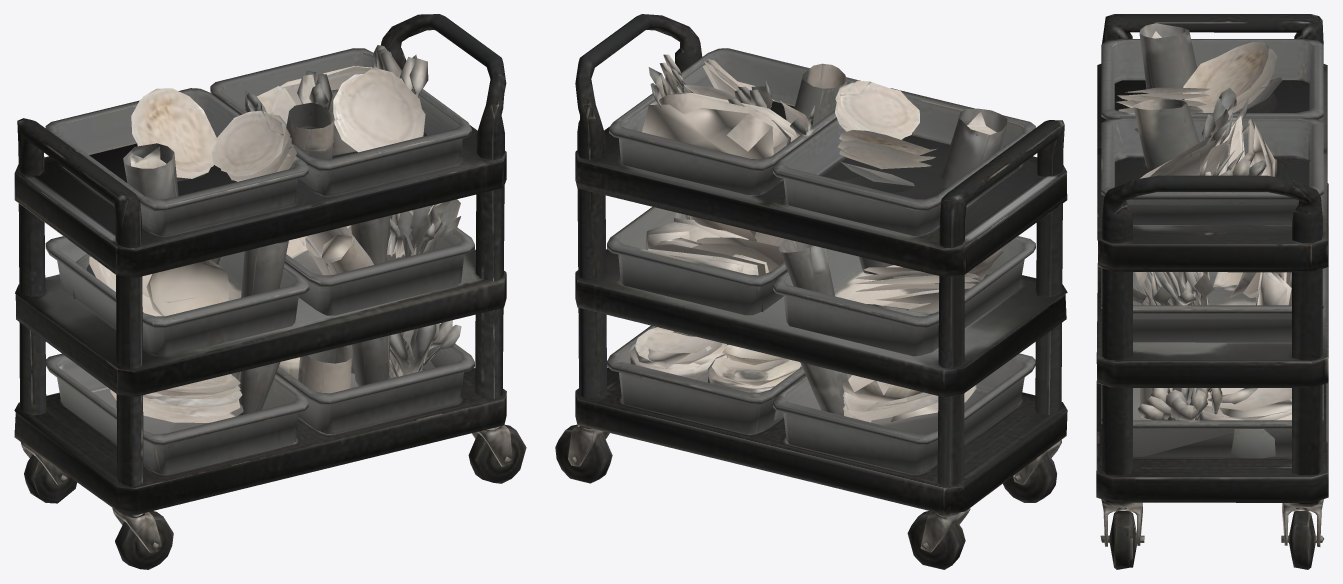
File: p7-bus-cart-t25.glb
The picture shows the model from 3 angles, left to right: view 1: azimuth 30°, elevation 25°; view 2: azimuth 150°, elevation 25°; view 3: azimuth 270°, elevation 25°; orthographic projection. The views are drawn at different scales.
Parts seen in each view (by area): view 1: p7-bus-cart-t25; view 2: p7-bus-cart-t25; view 3: p7-bus-cart-t25.
Boxes of the visible parts, x1,y1,x2,y2 form: p7-bus-cart-t25: (14,14,526,569); p7-bus-cart-t25: (555,14,1067,569); p7-bus-cart-t25: (1096,14,1328,569).
Bounding box in the file's own units: 1 × 0.95 × 0.5.
Materials: 1 (1 with a texture image).
